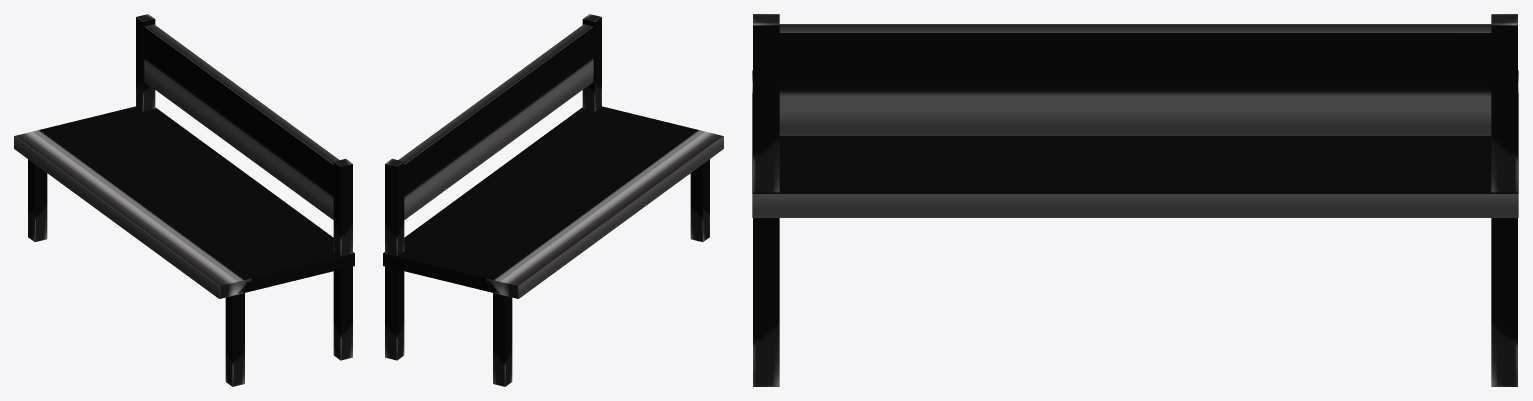
File: bench.fbx
3 renders of one model, left to right at view 1: azimuth 30°, elevation 25°; view 2: azimuth 150°, elevation 25°; view 3: azimuth 270°, elevation 25°, orthographic. The views are drawn at different scales.
Visible parts, largest first — view 1: bench; view 2: bench; view 3: bench.
Part boxes in pixels (left/top/right/bottom): bench: left=14, top=14, right=354, bottom=386; bench: left=383, top=14, right=723, bottom=386; bench: left=752, top=14, right=1518, bottom=386.
Size of the model in its own units: 55.15 by 75.33 by 145.
